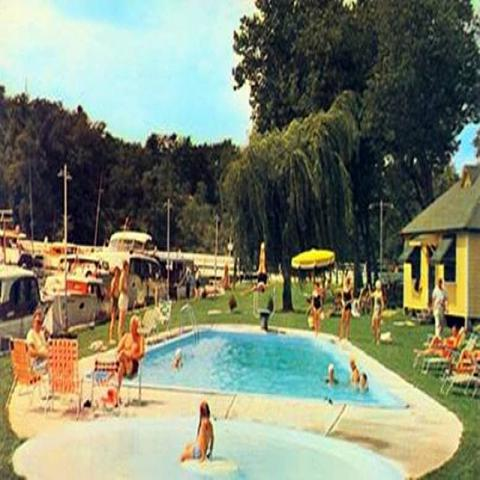car: (0, 265, 41, 324), (128, 254, 164, 280)
